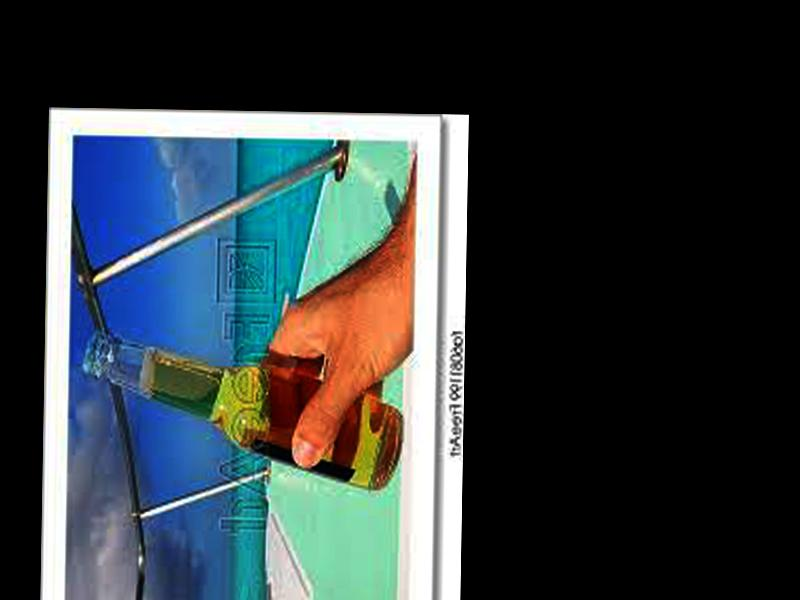Beer: (83, 323, 400, 493)
